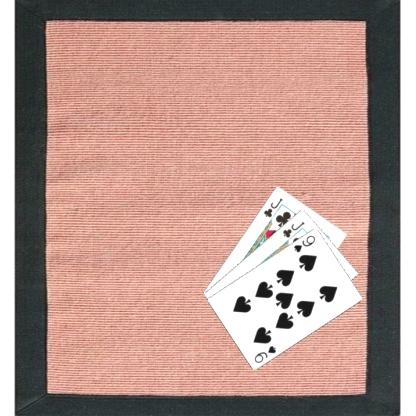9S: (291, 233, 317, 254), (252, 343, 277, 364)
JC: (280, 218, 306, 239), (261, 196, 284, 218)
